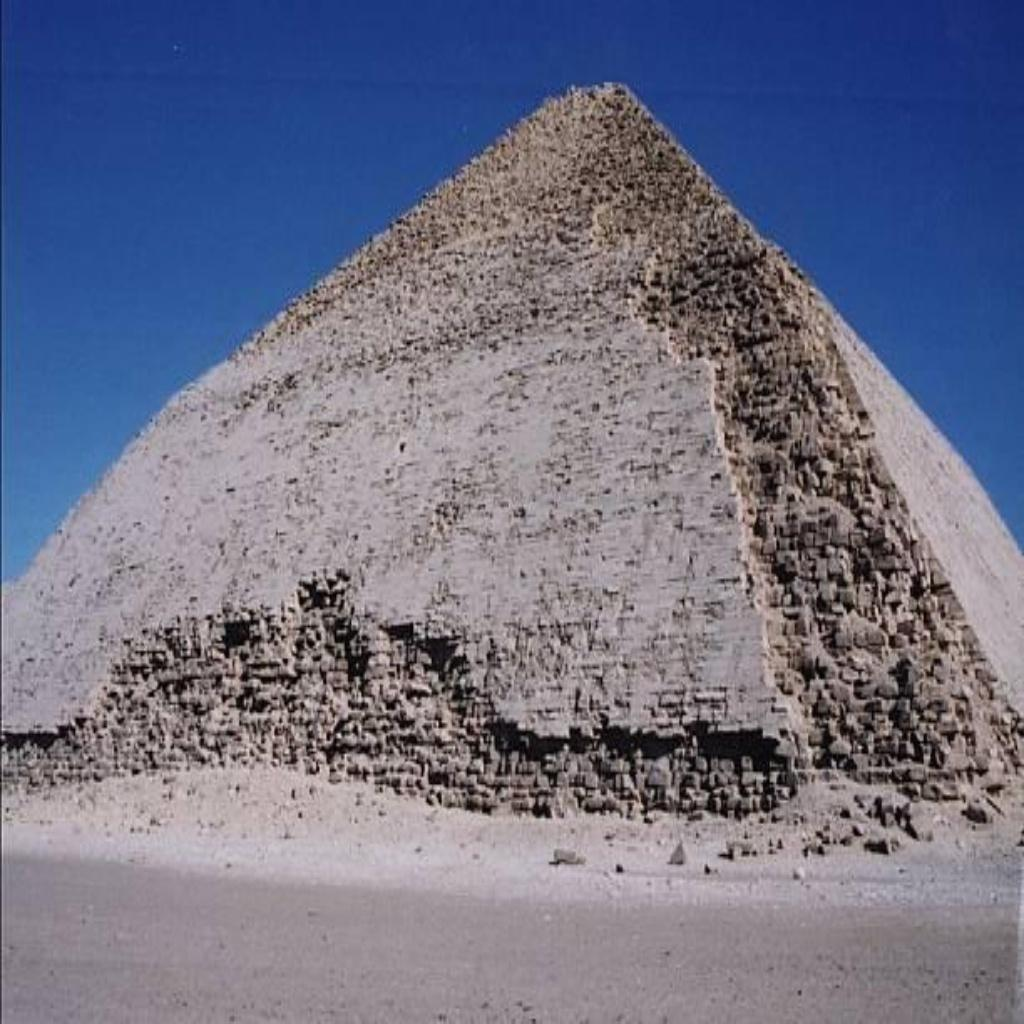Bent Pyramid of King Sneferu: (3, 74, 1019, 836)
